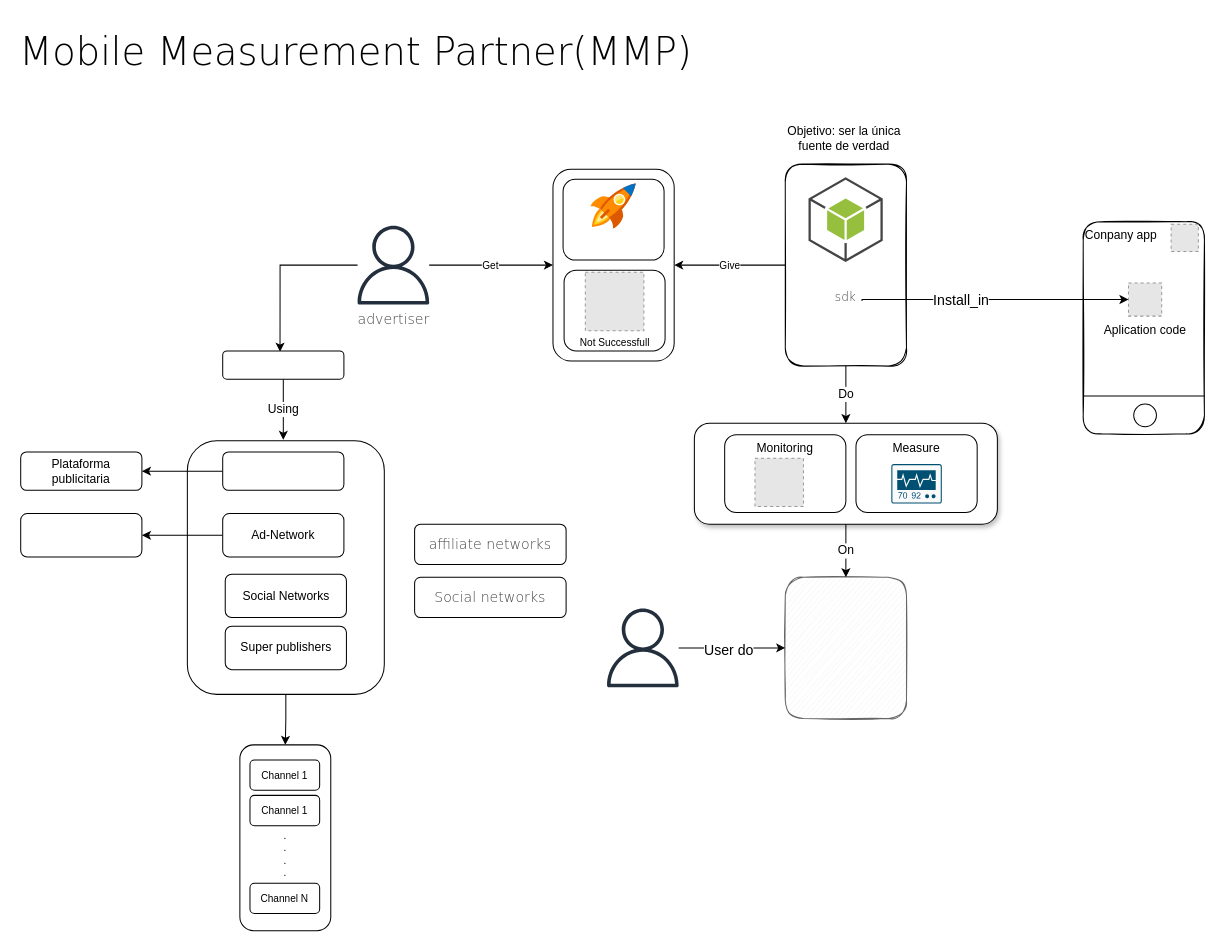
Image size: 1223x948. Some labels were removed from this diagram. Grey dashed boxes stand in for pictures. Each missing label, with the centre of its shape:
Distributed: pixel 283 364
DSP: pixel 283 470
in-app events Instalaciones compras otras acciones: pixel 845 647
MMP-Tool: pixel 845 219
Punto medio entre publicadores y anunciantes: pixel 81 535
Successfull campain: pixel 613 206
